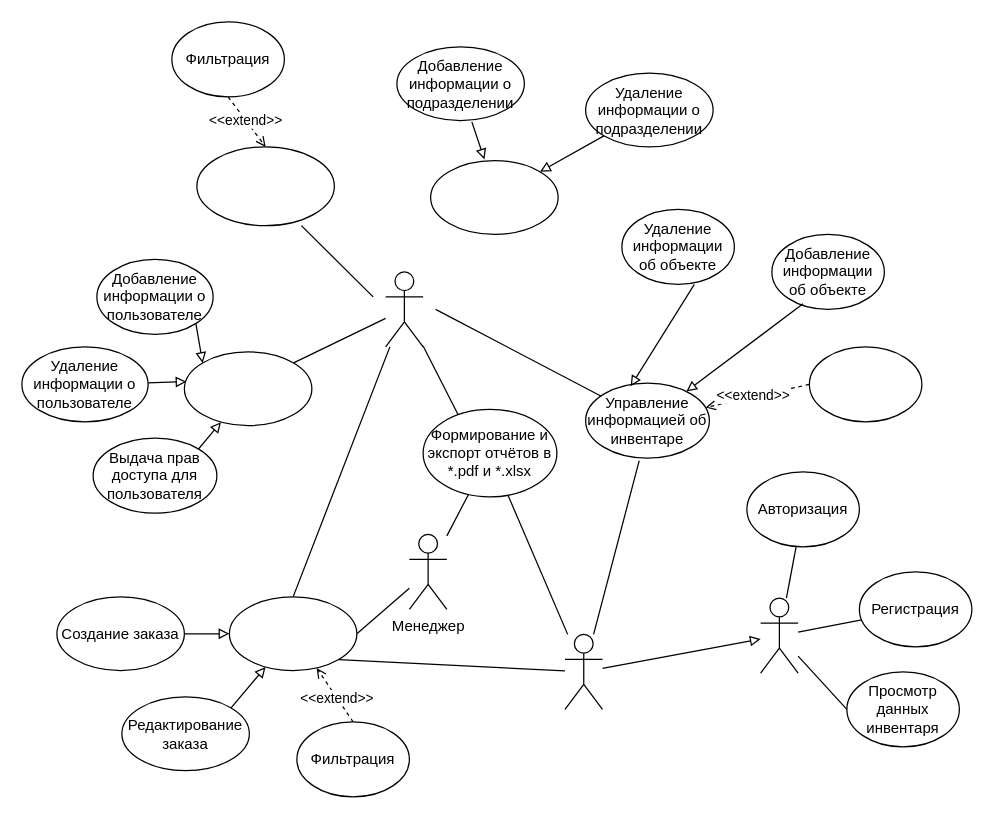
Some shapes in this 994 by 819 pixel diagram are drawn without their labels. Here are the shapes that lost their labels. From the top down, the box of each, then its label:
(196, 146, 334, 226): Редактирование категории имущества
(429, 159, 558, 234): Управление подразделениями
(384, 271, 423, 347): Администратор
(183, 351, 312, 426): Управление пользователями
(808, 346, 922, 422): Фильтрация объектов
(228, 596, 357, 671): Оформление заказов
(759, 597, 798, 673): Гость
(564, 633, 602, 709): Авторизованный пользователь
